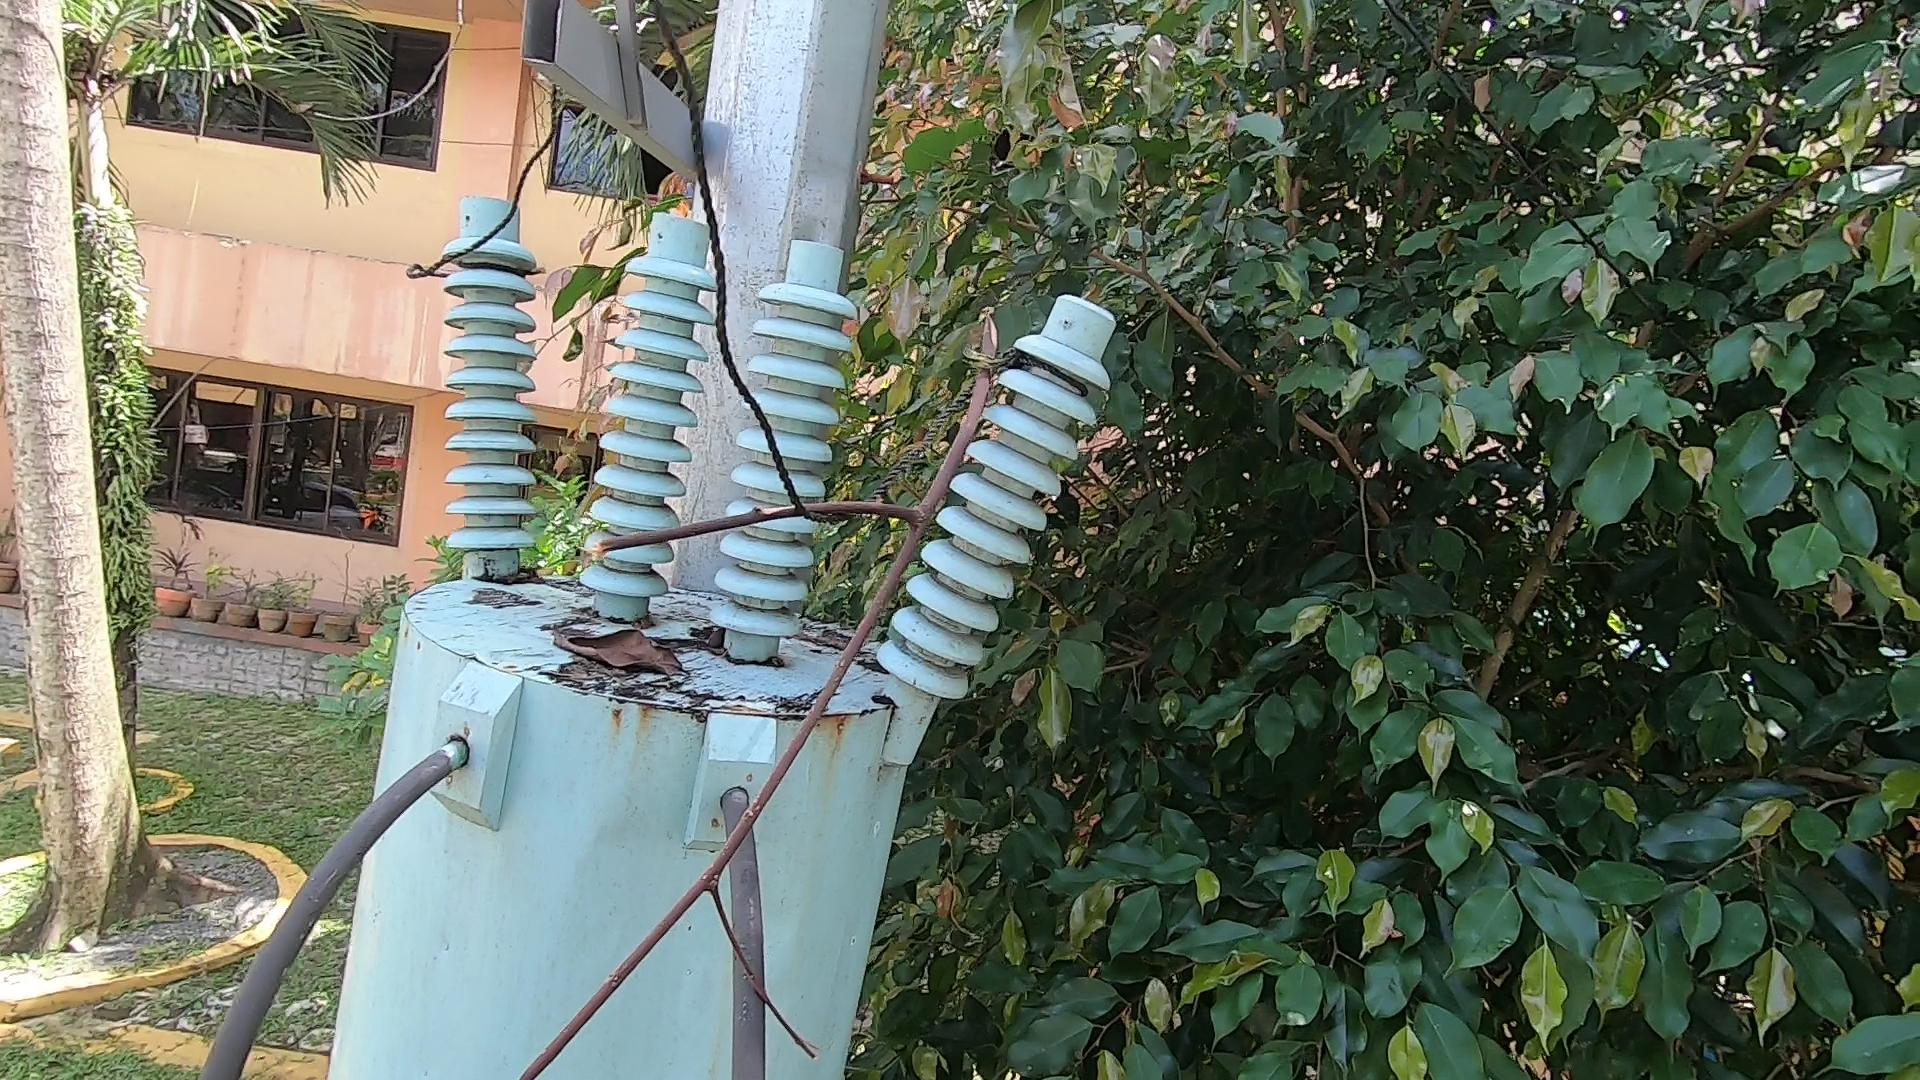leaf: (547, 607, 692, 698)
tree branch: (460, 303, 1058, 1080)
